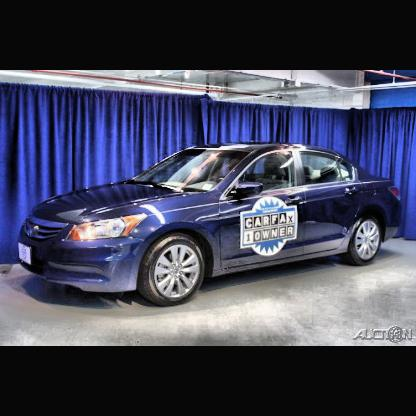Honda Accord Sedan 2012: (16, 146, 402, 307)
